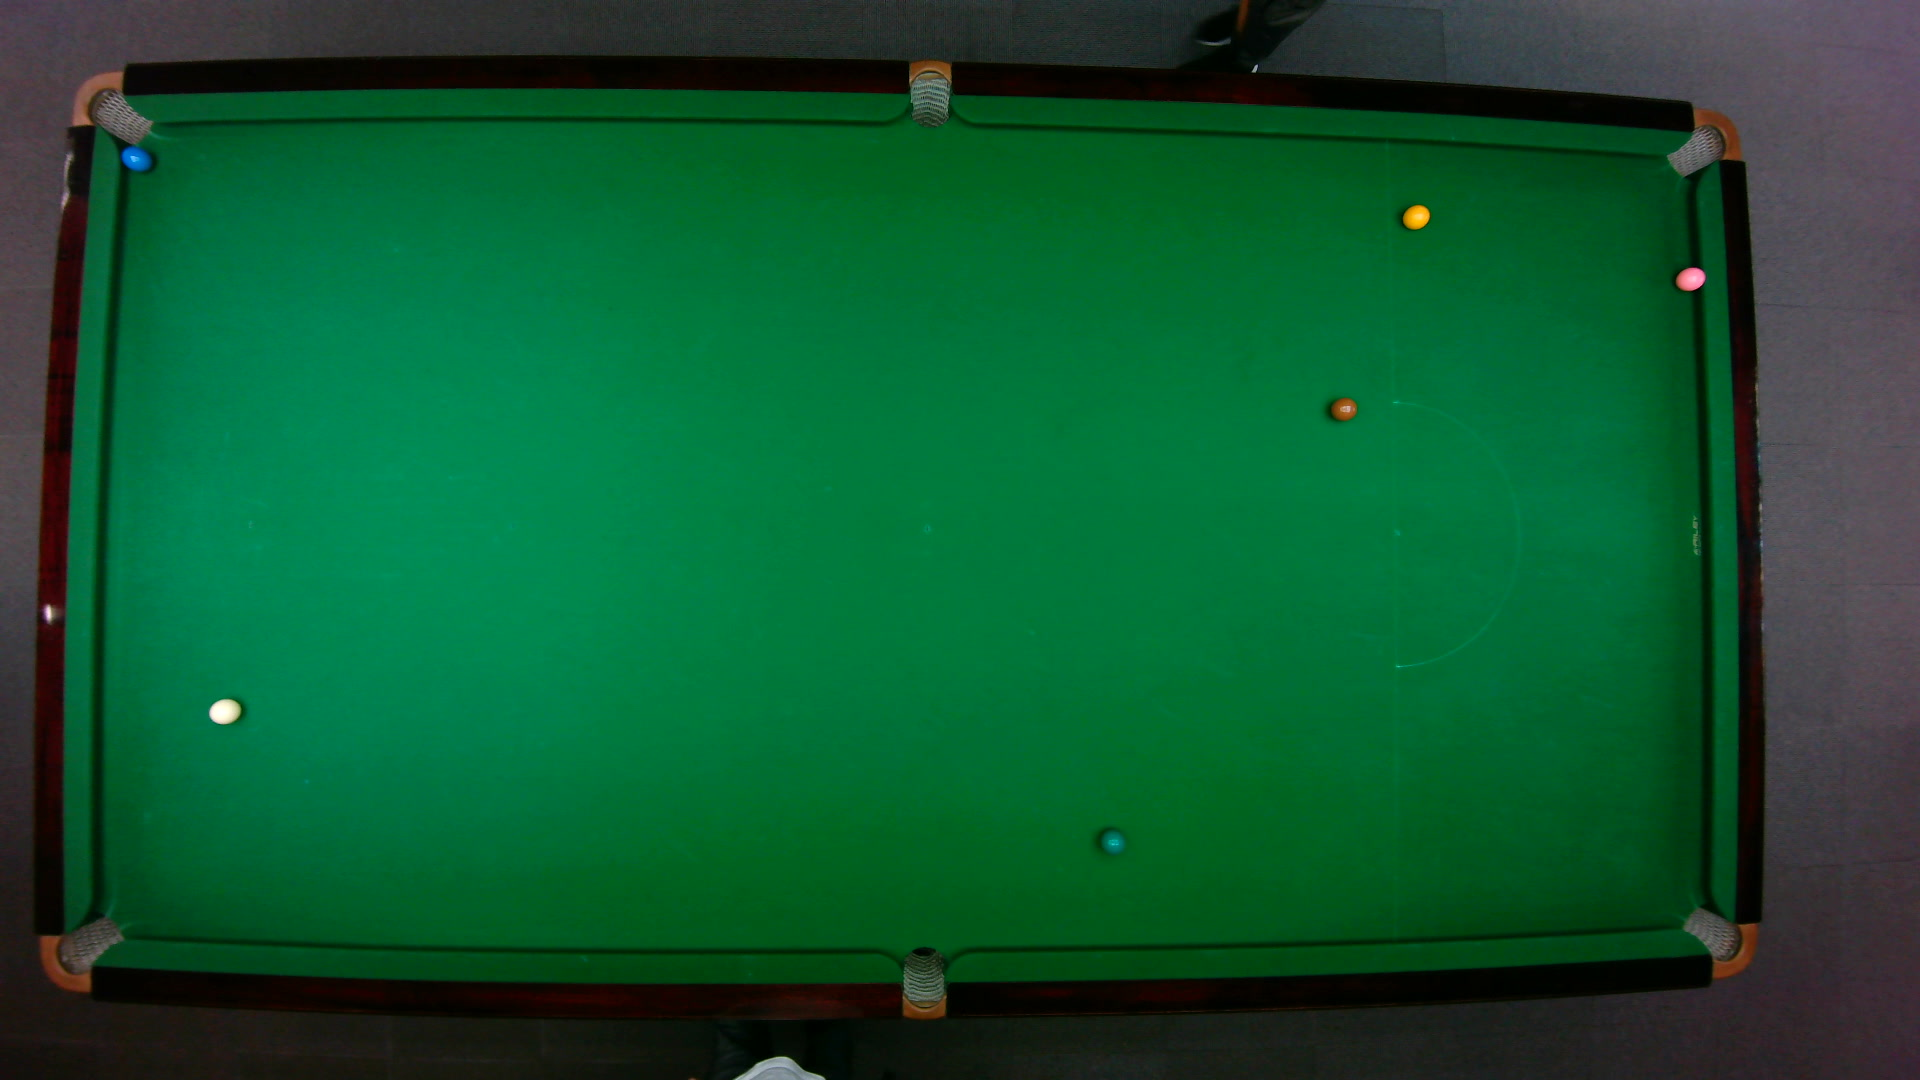bag: (37, 913, 125, 992), (69, 69, 153, 145), (1679, 905, 1756, 978), (1663, 107, 1741, 177), (901, 944, 944, 1021), (909, 57, 949, 128)
blue: (117, 144, 152, 171)
brown: (1328, 396, 1360, 421)
green: (1097, 827, 1127, 855)
pink: (1673, 264, 1706, 291)
white: (206, 695, 243, 724)
yellow: (1400, 202, 1431, 229)
zone: (1390, 400, 1520, 669)
